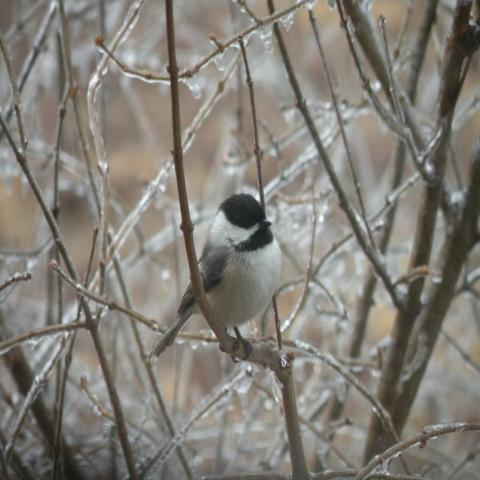bird: (146, 190, 284, 364)
